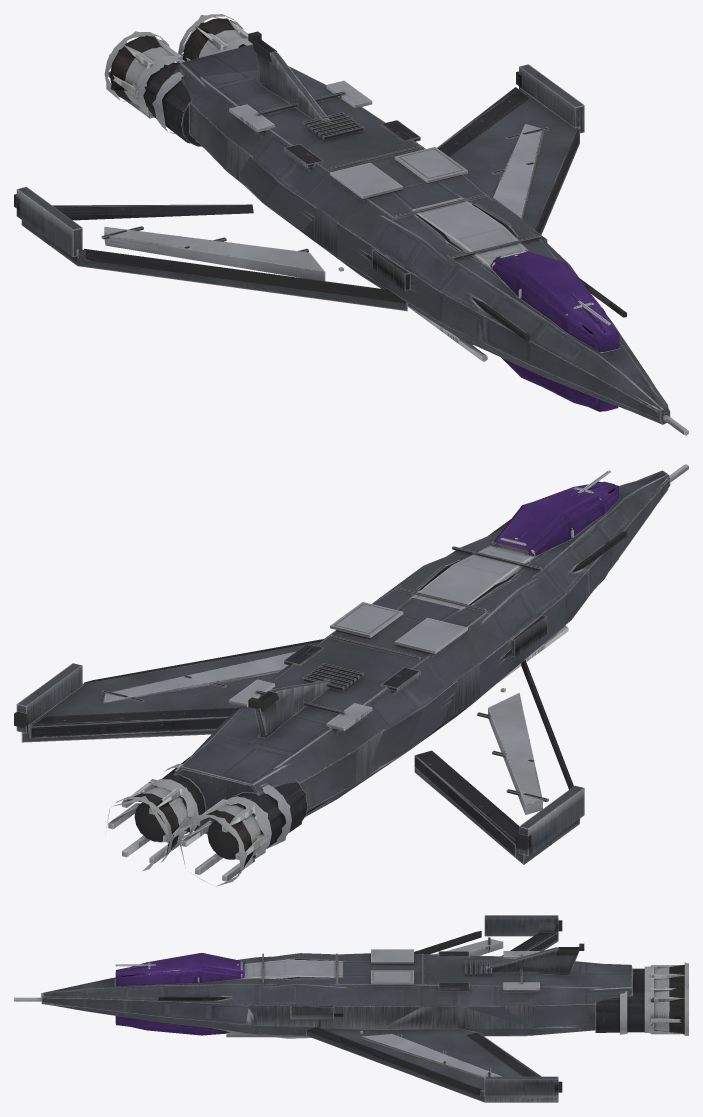
Rendered from ship_hayalet_m.glb.
The picture shows the model from 3 angles, top to bottom: view 1: azimuth 30°, elevation 25°; view 2: azimuth 150°, elevation 25°; view 3: azimuth 270°, elevation 25°; orthographic projection. The views are drawn at different scales.
Visible parts, largest first — view 1: LOD0_body, LOD1_body; view 2: LOD0_body, LOD1_body; view 3: LOD0_body, LOD1_body.
Boxes of the visible parts, x1,y1,x2,y2 form: LOD0_body: (14,14,688,435); LOD1_body: (22,15,668,424); LOD0_body: (14,464,688,881); LOD1_body: (23,470,669,886); LOD0_body: (14,915,688,1102); LOD1_body: (41,939,688,1102).
Size of the model in its own units: 0.5761 by 0.1399 by 1.
Materials: 1 (1 with a texture image).
